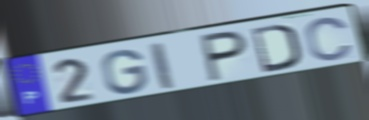2: (52, 57, 97, 106)
C: (304, 15, 355, 63)
D: (249, 22, 302, 75)
G: (100, 48, 150, 96)
I: (148, 40, 177, 92)
P: (199, 28, 250, 84)
